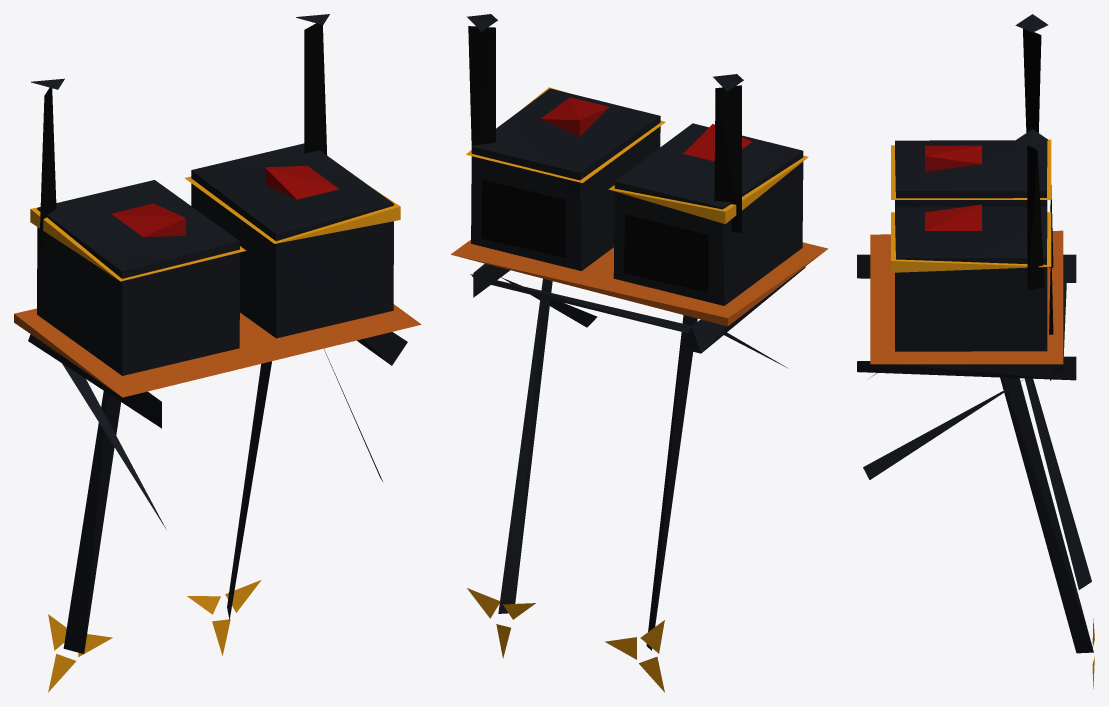
The model's file is tb_upg_twin_diesel.three-web-toon.lod25.glb.
3 views of the same model, side by side, from view 1: azimuth 30°, elevation 25°; view 2: azimuth 150°, elevation 25°; view 3: azimuth 270°, elevation 25° (orthographic). The views are drawn at different scales.
Visible parts, largest first — view 1: tb_upg_twin_diesel_mesh_lod; view 2: tb_upg_twin_diesel_mesh_lod; view 3: tb_upg_twin_diesel_mesh_lod.
Boxes of the visible parts, left/top/right/bottom form: tb_upg_twin_diesel_mesh_lod: left=14, top=14, right=421, bottom=692; tb_upg_twin_diesel_mesh_lod: left=451, top=14, right=828, bottom=692; tb_upg_twin_diesel_mesh_lod: left=857, top=14, right=1094, bottom=688.
Size of the model in its own units: 1.4 by 2.92 by 1.08.
